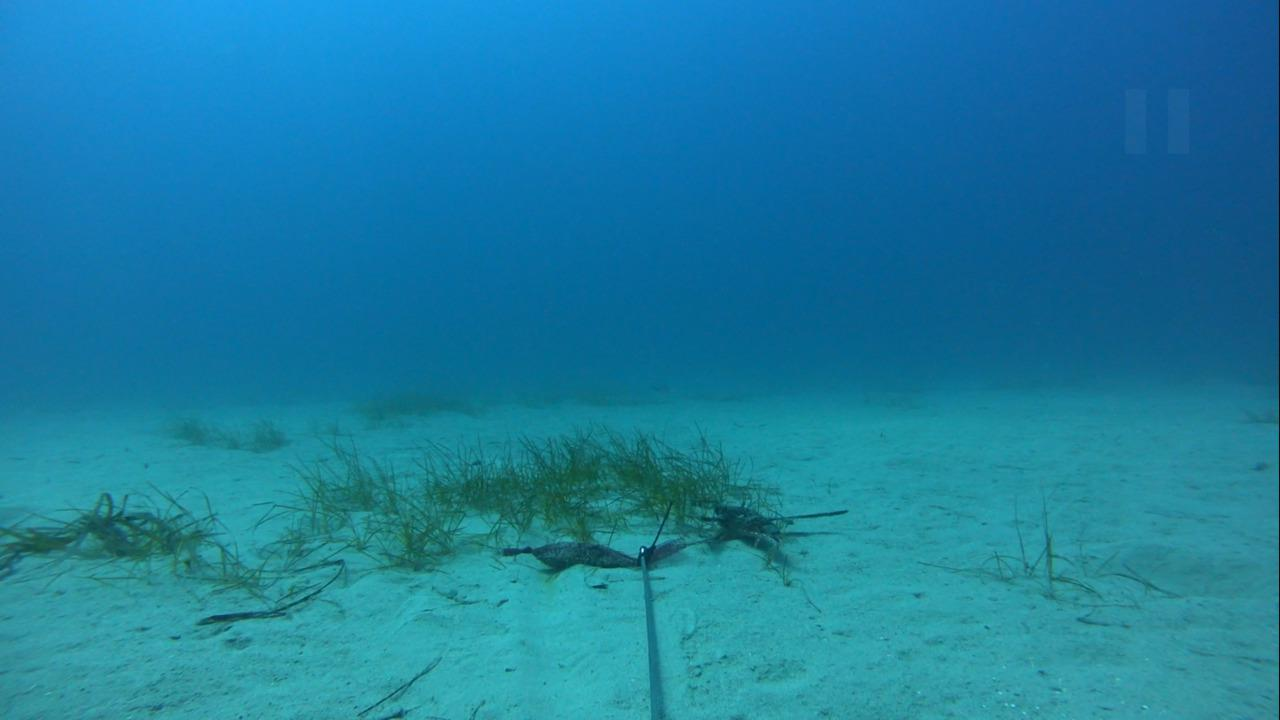dactylopterus: (682, 492, 850, 580)
